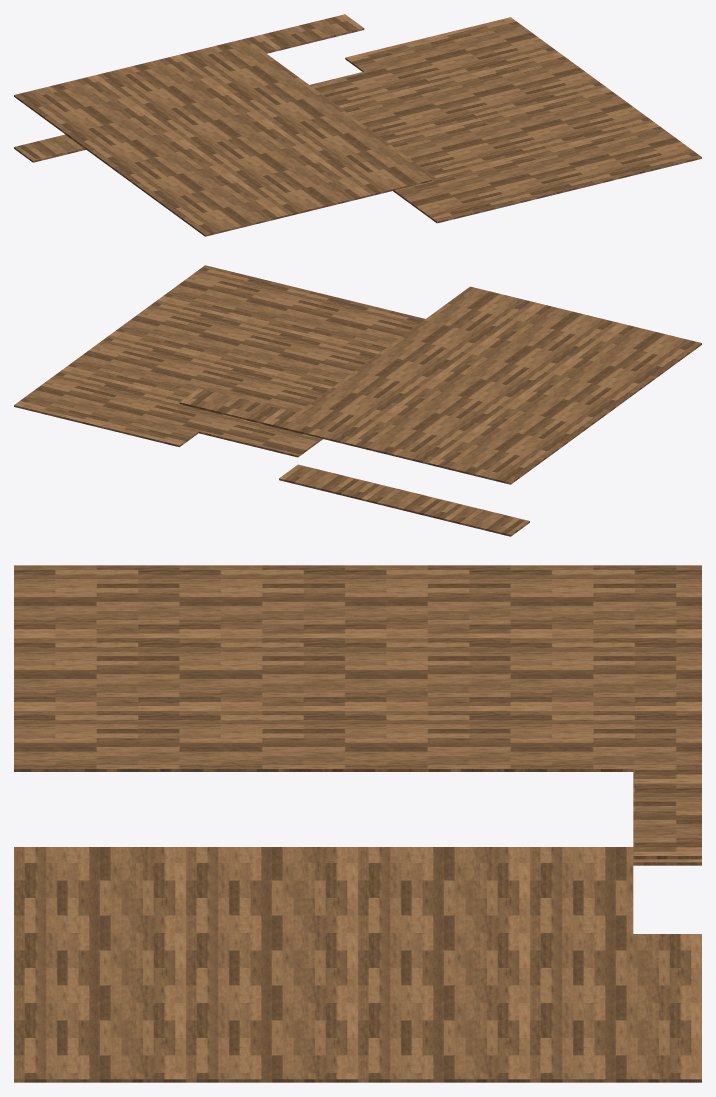
The model's file is langit langit.fbx.
3 views of the same model, one above another, from view 1: azimuth 30°, elevation 25°; view 2: azimuth 150°, elevation 25°; view 3: azimuth 270°, elevation 25° (orthographic). The views are drawn at different scales.
Parts seen in each view (by area): view 1: langit langit boss.001, langit langit, langit langit boss; view 2: langit langit boss.001, langit langit, langit langit boss; view 3: langit langit, langit langit boss.001.
Boxes of the visible parts, box(x1,y1,x2,y2) form: langit langit boss.001: box(14, 14, 436, 236); langit langit: box(310, 17, 701, 223); langit langit boss: box(14, 134, 85, 162); langit langit boss.001: box(179, 286, 701, 484); langit langit: box(14, 265, 425, 457); langit langit boss: box(279, 464, 529, 536); langit langit: box(14, 847, 701, 1082); langit langit boss.001: box(14, 565, 701, 859).
Bounding box in the file's own units: 3000 × 310 × 2000.
Materials: 1 (1 with a texture image).
